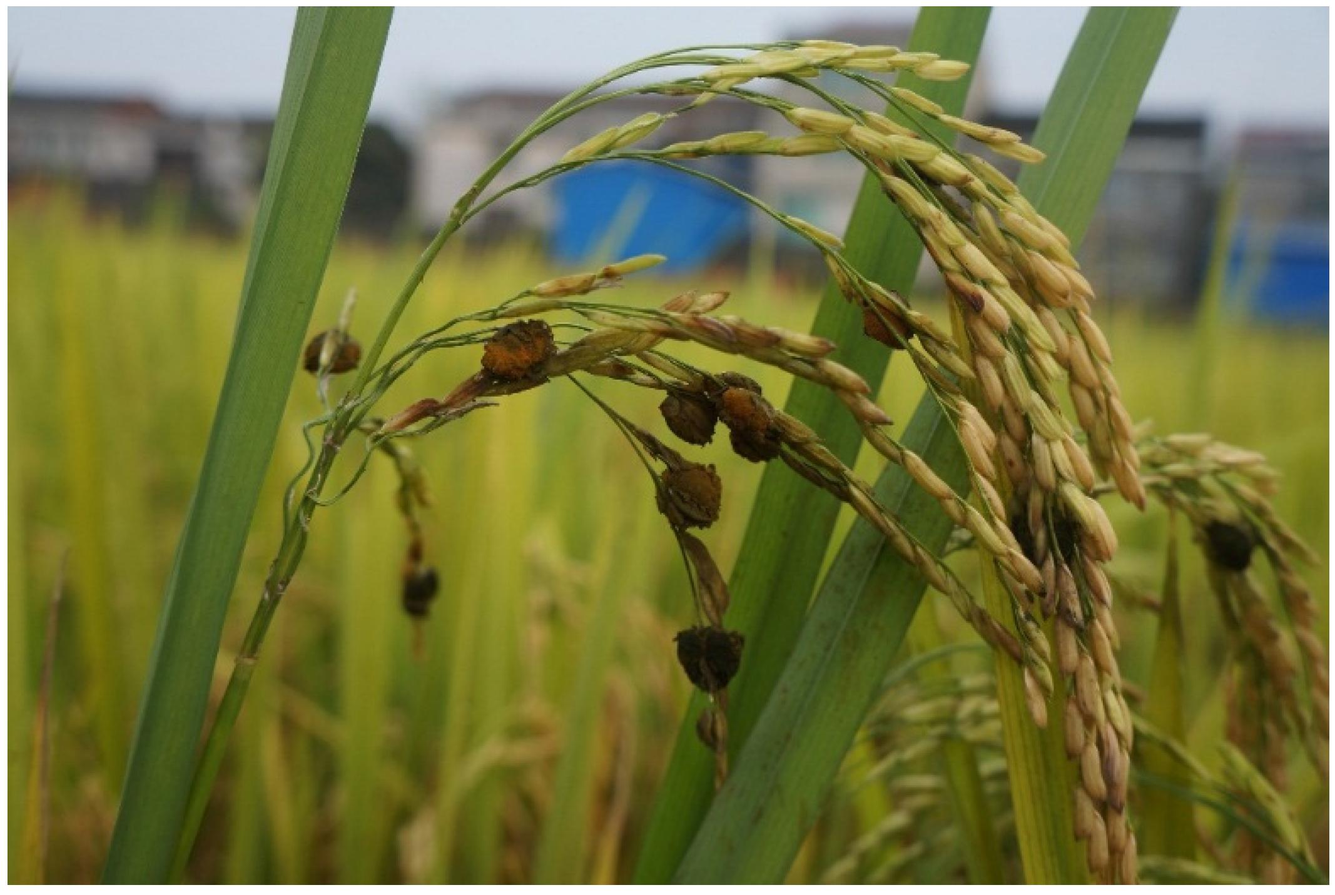False Smut: (651, 359, 813, 480), (995, 486, 1122, 615), (836, 244, 949, 379), (1184, 492, 1291, 625), (461, 300, 584, 409), (630, 446, 747, 540), (646, 619, 759, 711)
